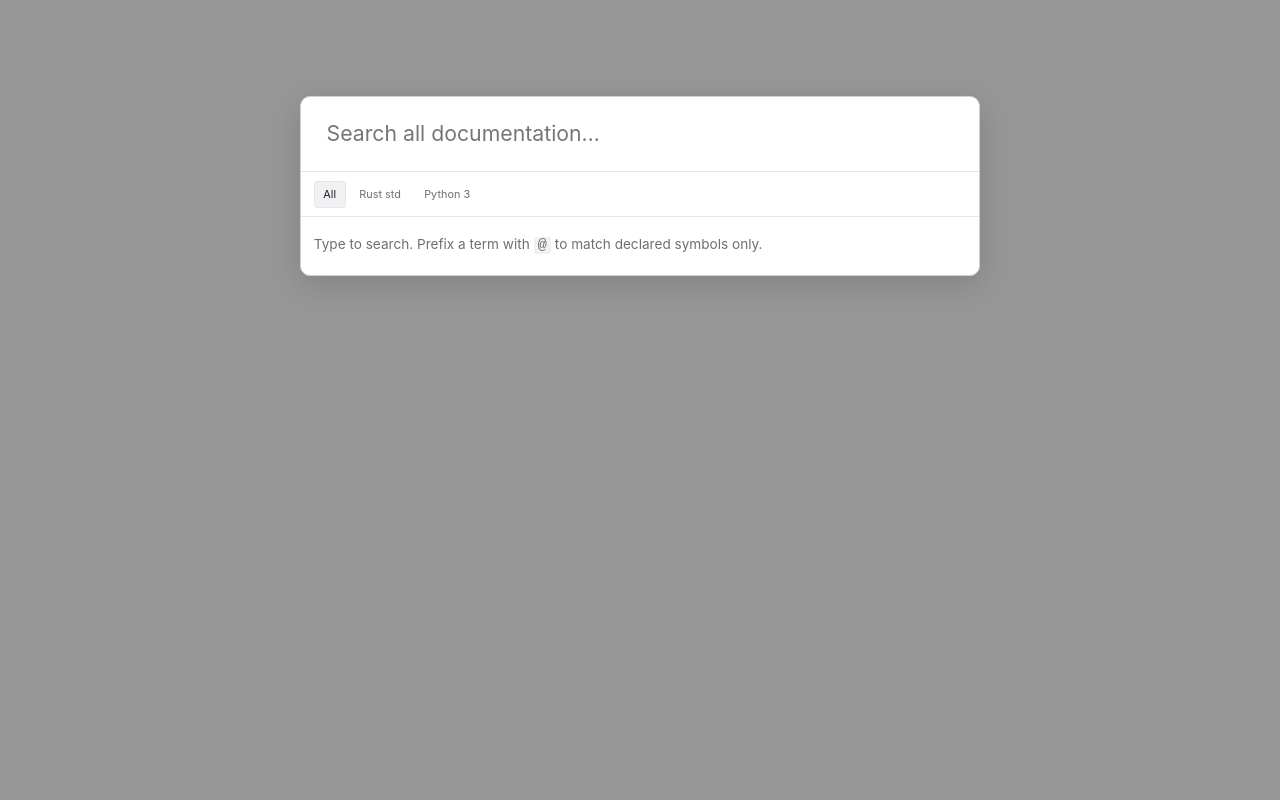
Scenario: SearchModal › debounces rather than searching on every keystroke
The width and height of the screenshot is (1280, 800).
Type "vector" into the field named "Search query" at {"x": 640, "y": 134}, box [314,110,966,159]
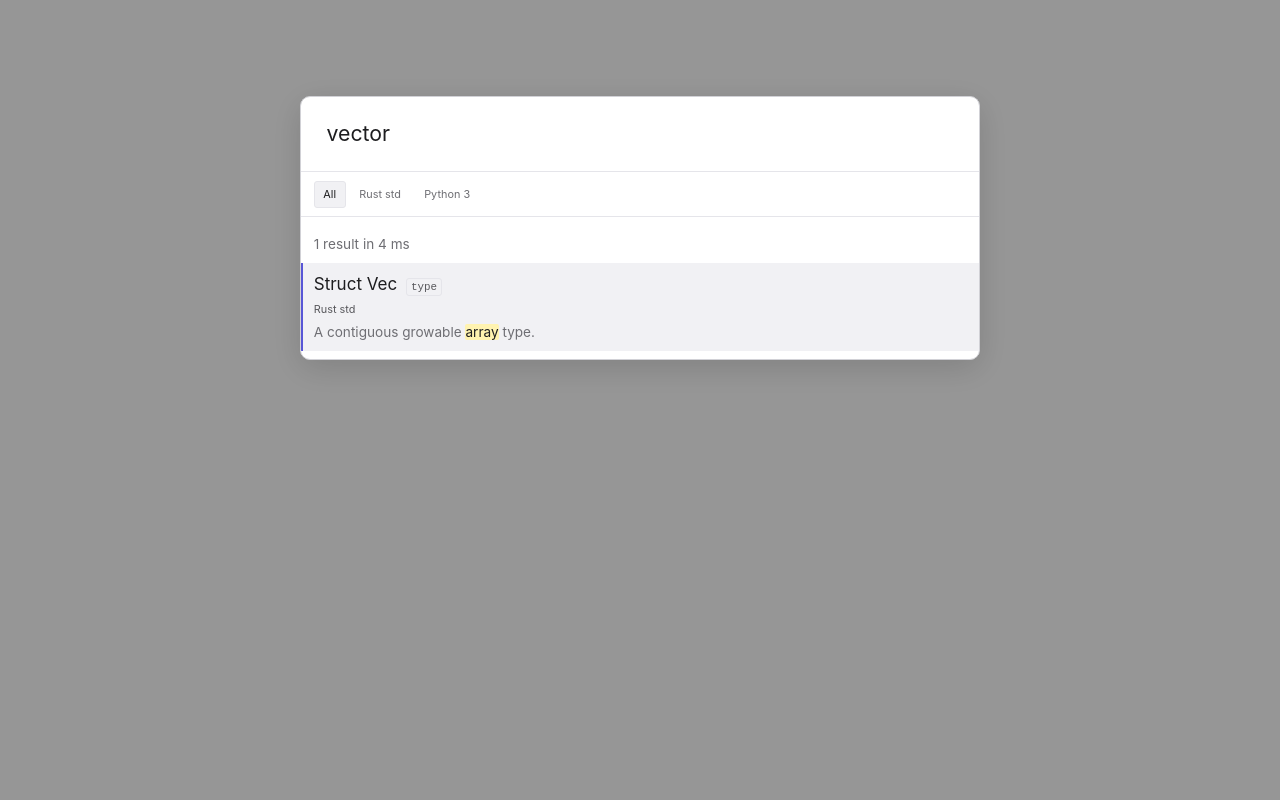
Check: the option "Struct Vec type Rust std A contiguous growable array type." is shown, box [301,263,979,351]
